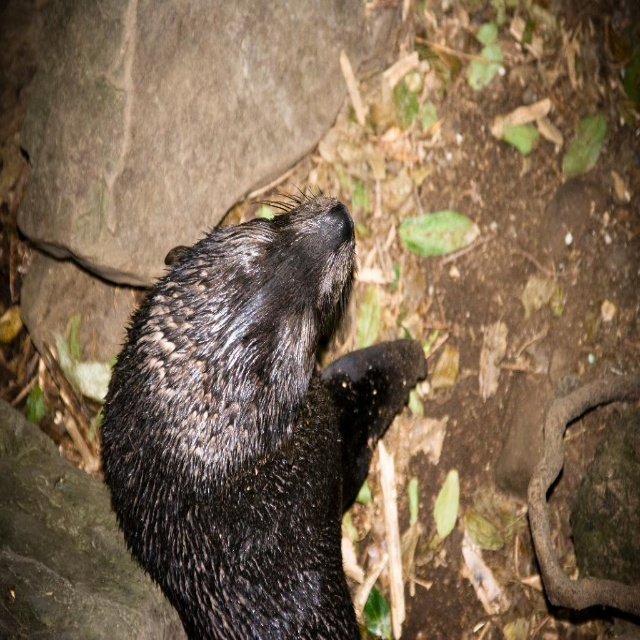Otter: (74, 134, 448, 640)
